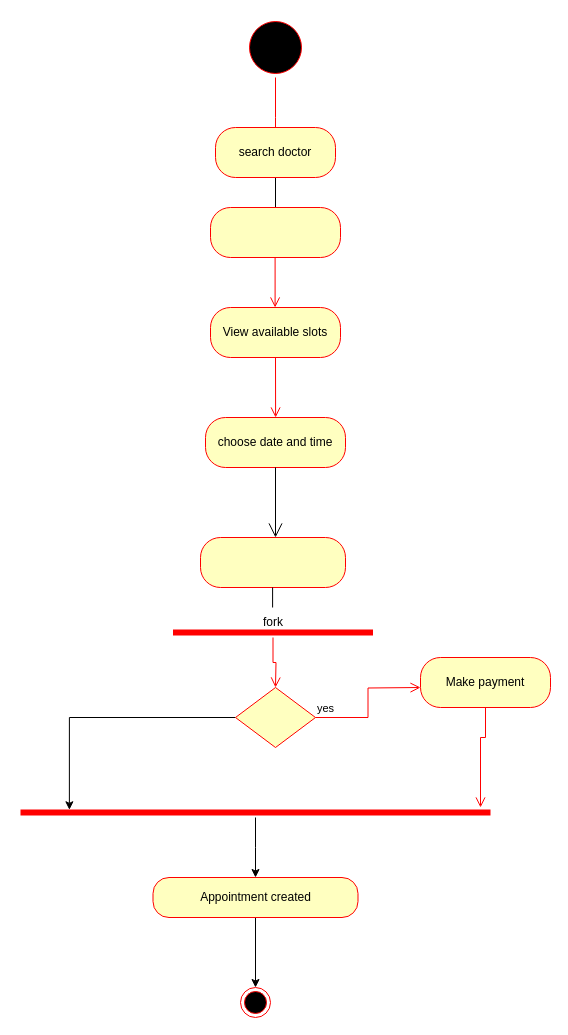
Some shapes in this 568 by 1035 pixel diagram are drawn without their labels. Here are the shapes that lost their labels. From the top down, the centre of each, then its label:
At pixel 275 232: "Select specialist".
At pixel 273 562: "confirm appointment".
At pixel 275 717: "payment required".
